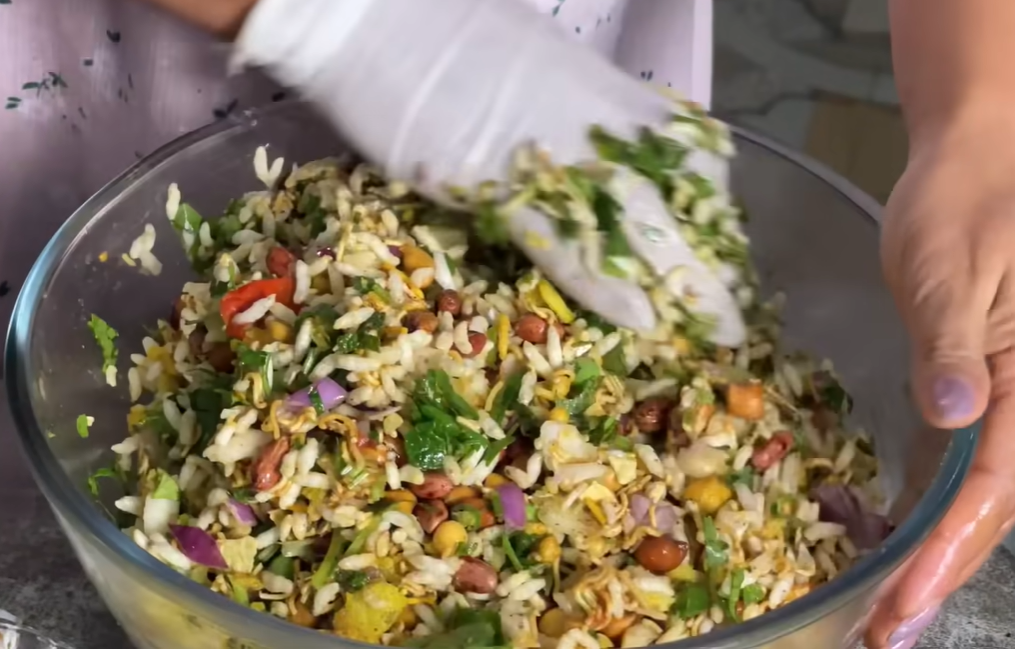chatpate: (121, 194, 861, 597)
